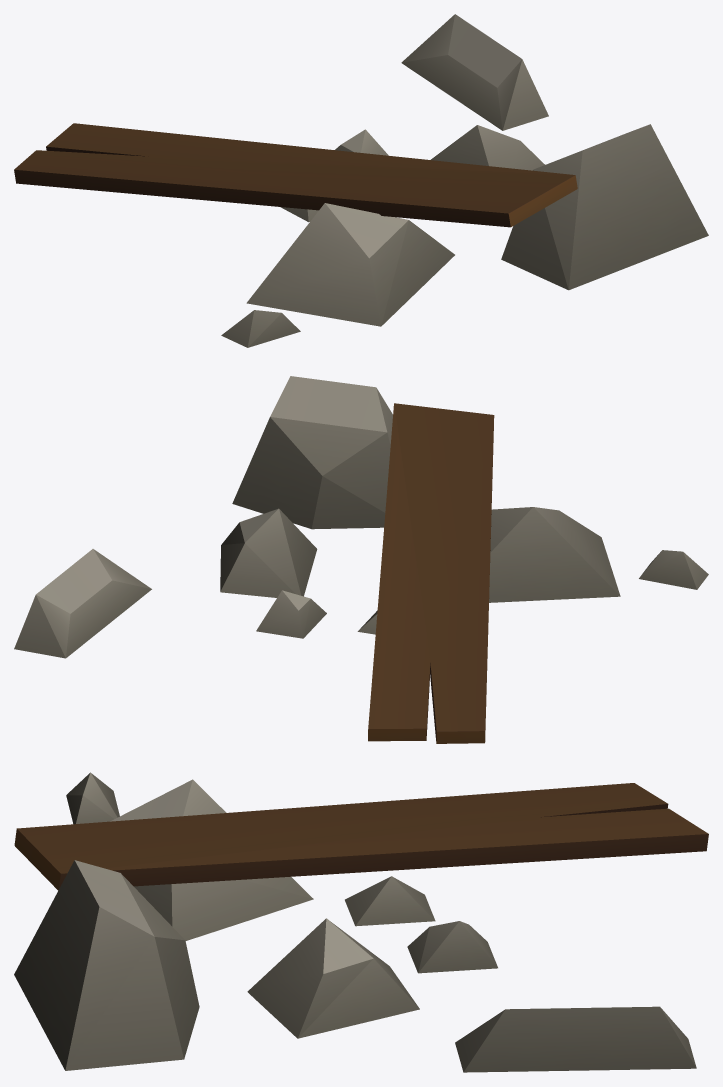
The model's file is Debris_Corner_1B.fbx.
3 views of the same model, one above another, from view 1: azimuth 30°, elevation 25°; view 2: azimuth 150°, elevation 25°; view 3: azimuth 270°, elevation 25° (orthographic). The views are drawn at different scales.
Visible parts, largest first — view 1: Debris_Corner_1B; view 2: Debris_Corner_1B; view 3: Debris_Corner_1B.
Part boxes in pixels (x1,y1,x2,y2): Debris_Corner_1B: (14, 14, 708, 347); Debris_Corner_1B: (14, 376, 708, 743); Debris_Corner_1B: (14, 772, 708, 1072).
Size of the model in its own units: 1.8 by 0.4271 by 1.88.
